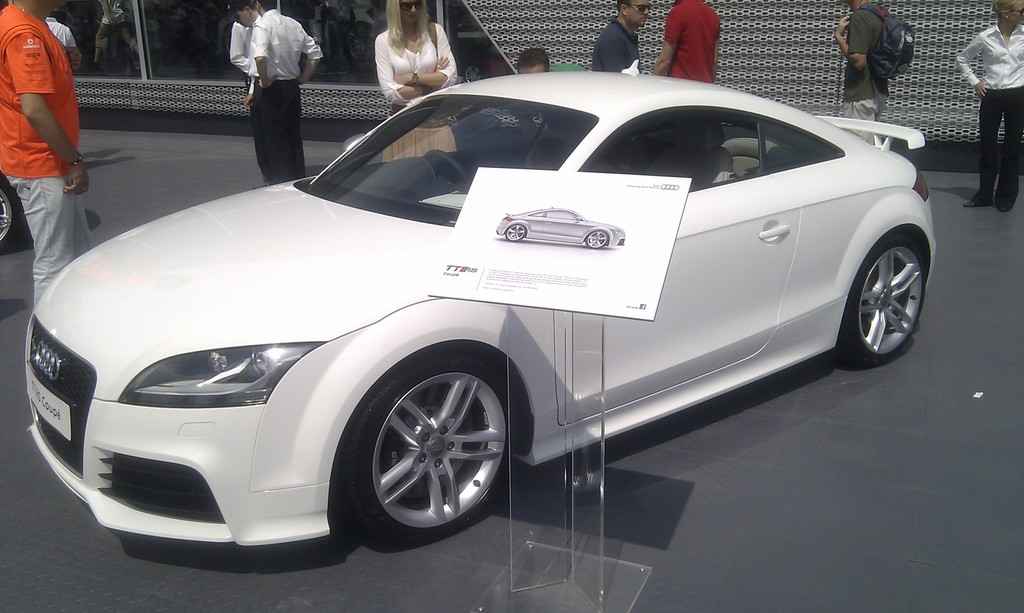Person: (834, 0, 917, 142), (510, 45, 583, 135), (658, 1, 715, 80)
